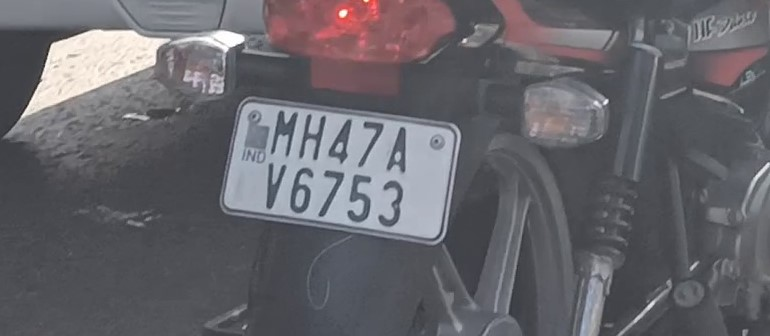MH47AV6753: (222, 99, 456, 240)
